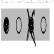correct: (2, 13, 11, 36)
not correct: (25, 9, 37, 49)
